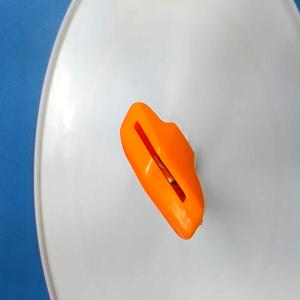estilete: (119, 101, 206, 242)
